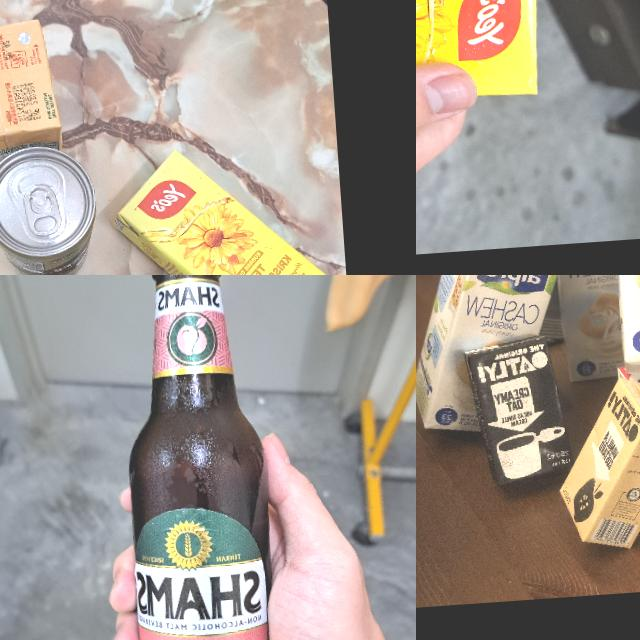aba de lata: (19, 184, 62, 238)
caixinha: (105, 138, 342, 275), (416, 275, 582, 438), (462, 332, 578, 489), (550, 373, 640, 554), (416, 0, 544, 118), (538, 275, 627, 383), (0, 16, 62, 166)
garrafa de vidro: (107, 275, 288, 640)
lata: (0, 141, 102, 275)
